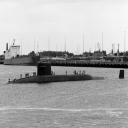submarine: (6, 65, 126, 88)
